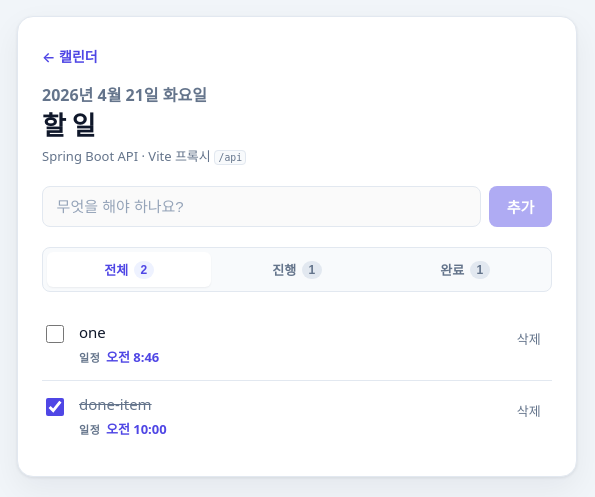
Test: TodoDayPage › filters to active only
The width and height of the screenshot is (595, 497).
Expected: the text "one" is shown, [79,322,106,342]
Click the tab "진행 1" at (297, 270), box [215,252,379,287]
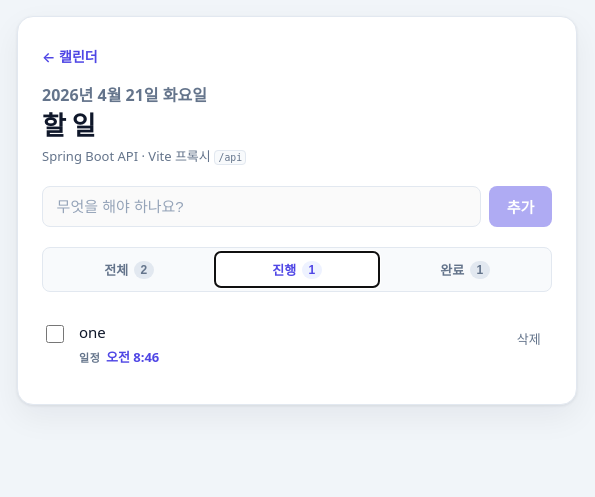
Expected: the text "one" is shown, [79,322,106,342]
Now the text "done-item" is gone
